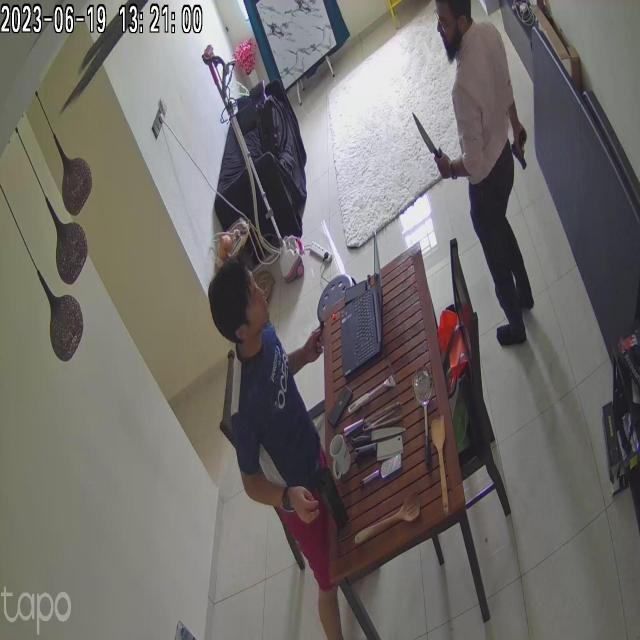Gun: (509, 126, 539, 171)
Knife: (403, 113, 449, 175)
